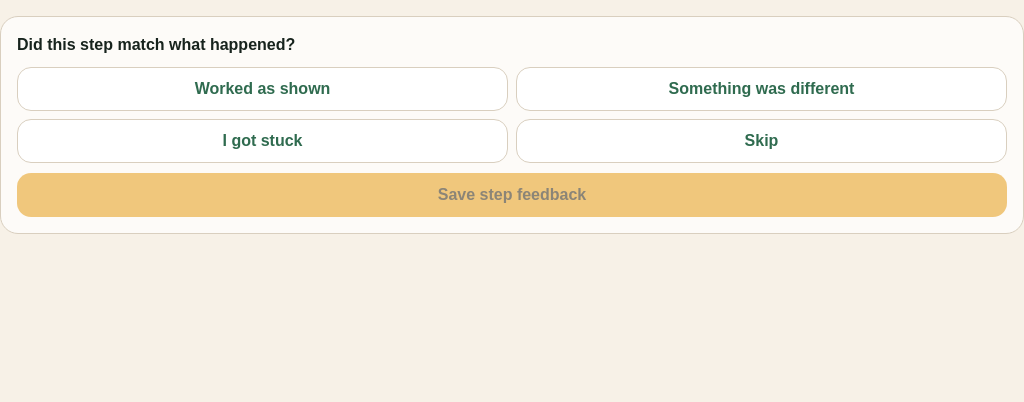
StepOutcomeForm › submits a deviation with optional evidence for the exact case and step
The image size is (1024, 402).
Click the button "Something was different". click: x=762, y=89
box: [516, 67, 1007, 111]
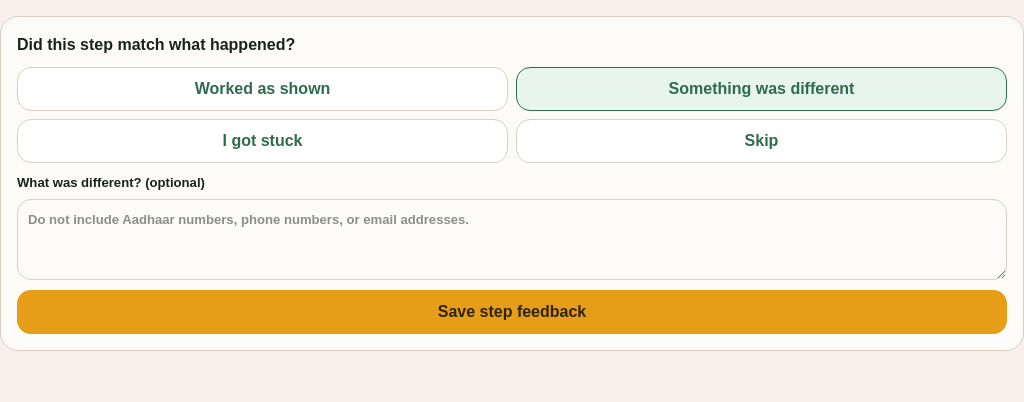
Replace the text in the text box labelled "What was different? (optional)" with "The bank requested another document.". click: x=512, y=239
box: [17, 199, 1007, 280]
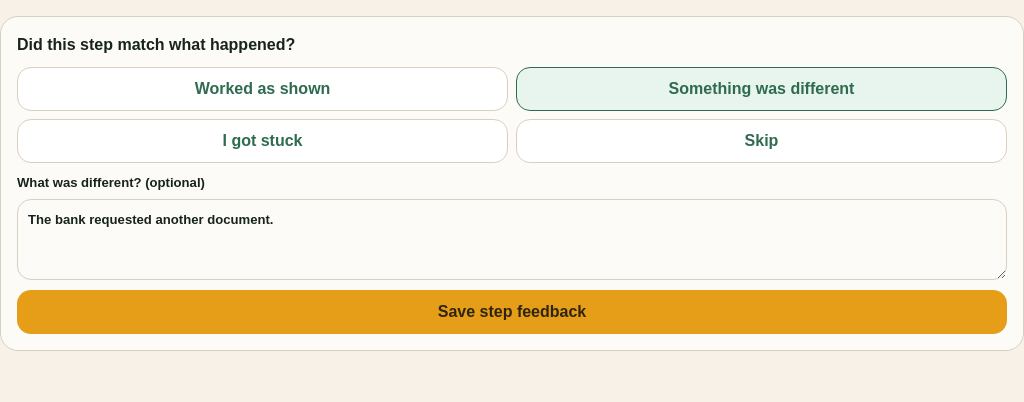
Click the button "Save step feedback". click: x=512, y=312
box: [17, 290, 1007, 334]
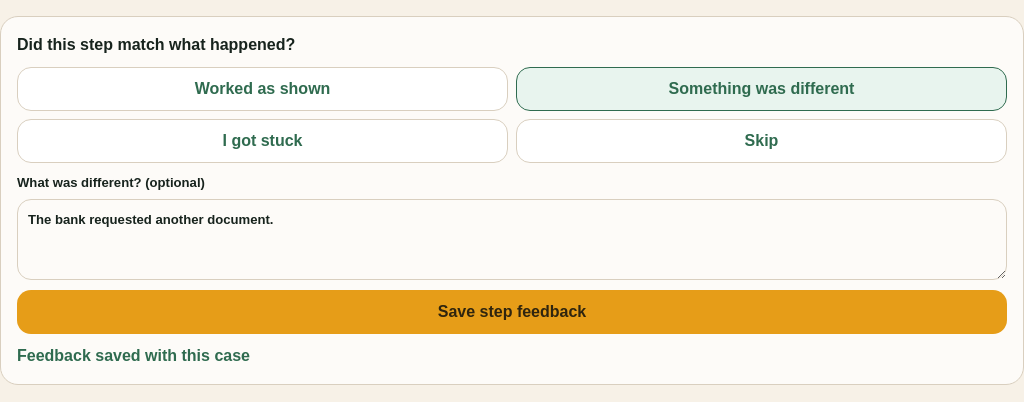
Check: the message shows "Feedback saved", box [17, 347, 250, 364]
